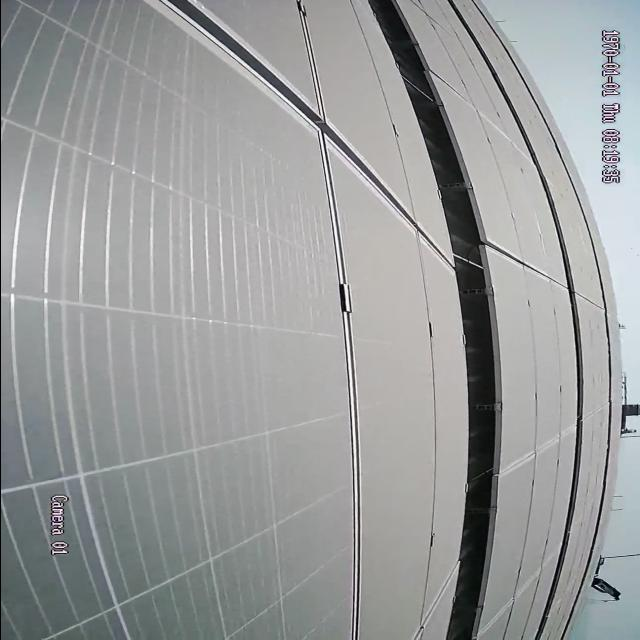interior panel: (149, 1, 452, 640), (492, 238, 562, 294), (503, 423, 571, 478)
outher panel: (368, 0, 492, 640)
